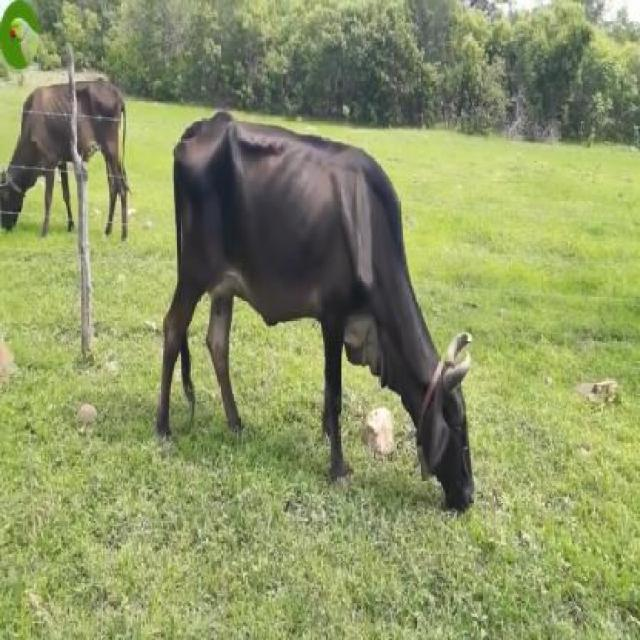Cow: (156, 111, 476, 512), (0, 77, 131, 245)
